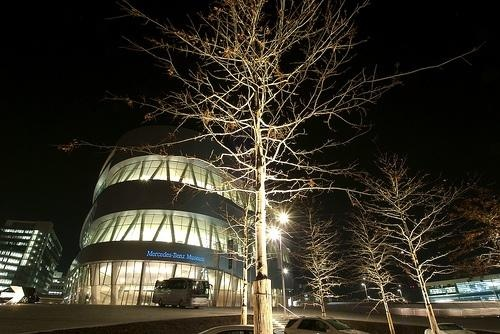bus: (153, 277, 211, 311)
